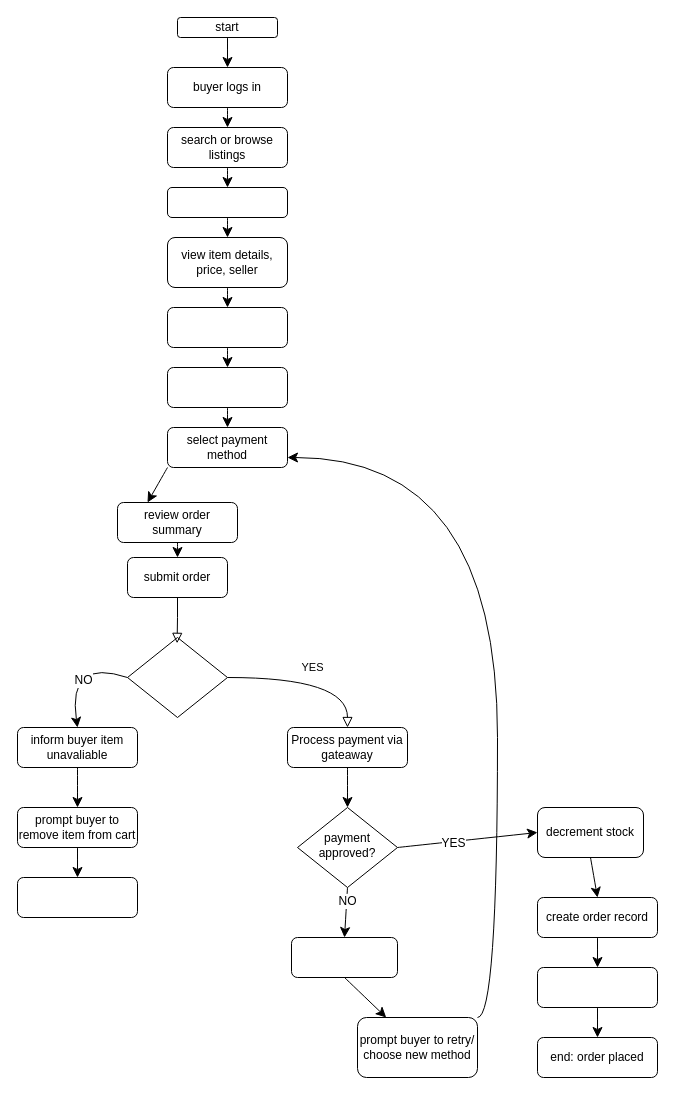
The diagram is 675 pixels wide and 1095 high, and some of its shapes have lost their labels. Here are the shapes that lost their labels. From the top down, the centre of each, then its label:
(227,202): select a listing
(227,327): add to cart/ buy now
(227,387): enter shipping address
(177,677): stock still available?
(77,897): end: order not placed
(344,957): show payment failed message
(597,987): send confirmation/ receipt
